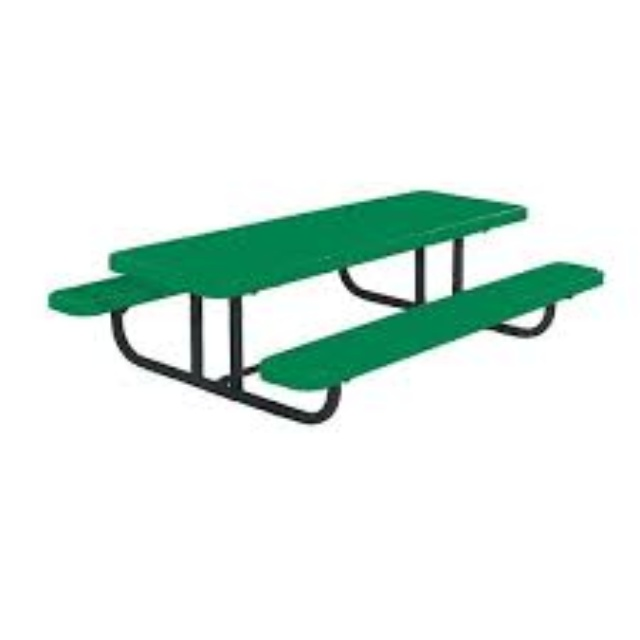obstacle: (40, 176, 609, 484)
